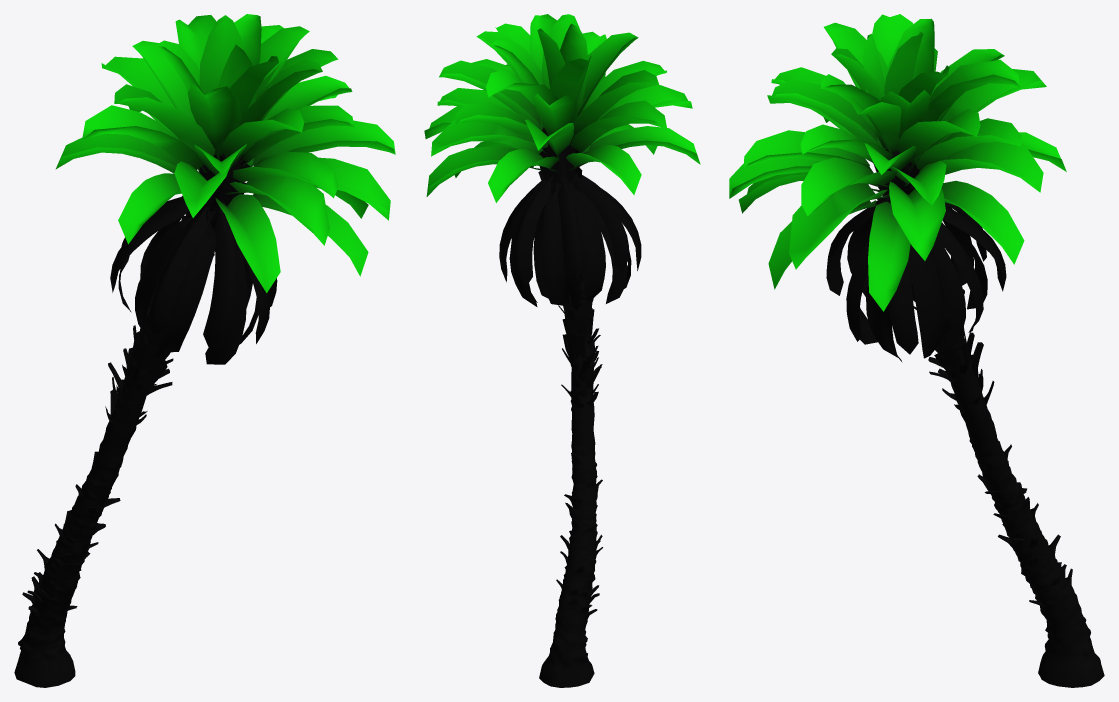
3 views of the same model, side by side, from view 1: azimuth 30°, elevation 25°; view 2: azimuth 150°, elevation 25°; view 3: azimuth 270°, elevation 25° (orthographic). The views are drawn at different scales.
Visible parts, largest first — view 1: SM_TR_DatePalm_10m_HD; view 2: SM_TR_DatePalm_10m_HD; view 3: SM_TR_DatePalm_10m_HD.
Part boxes in pixels (box(x1,y1,x2,y2)): SM_TR_DatePalm_10m_HD: box(14, 14, 395, 687); SM_TR_DatePalm_10m_HD: box(424, 14, 700, 687); SM_TR_DatePalm_10m_HD: box(729, 14, 1104, 687).
Bounding box in the file's own units: 194 × 169 × 395.
